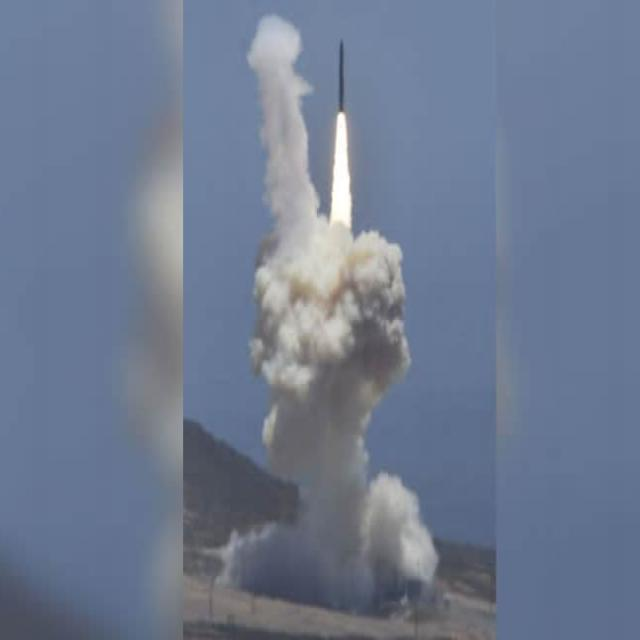Missile: (337, 38, 346, 118)
